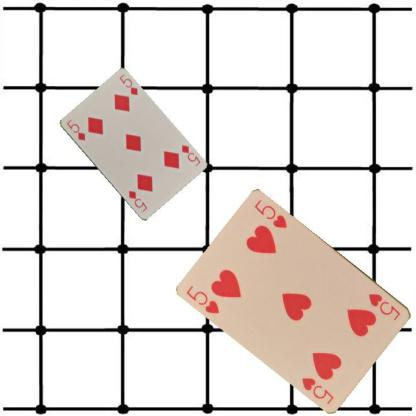5d: (178, 142, 202, 167), (64, 117, 86, 142)
5h: (184, 282, 221, 315), (366, 290, 402, 322)
